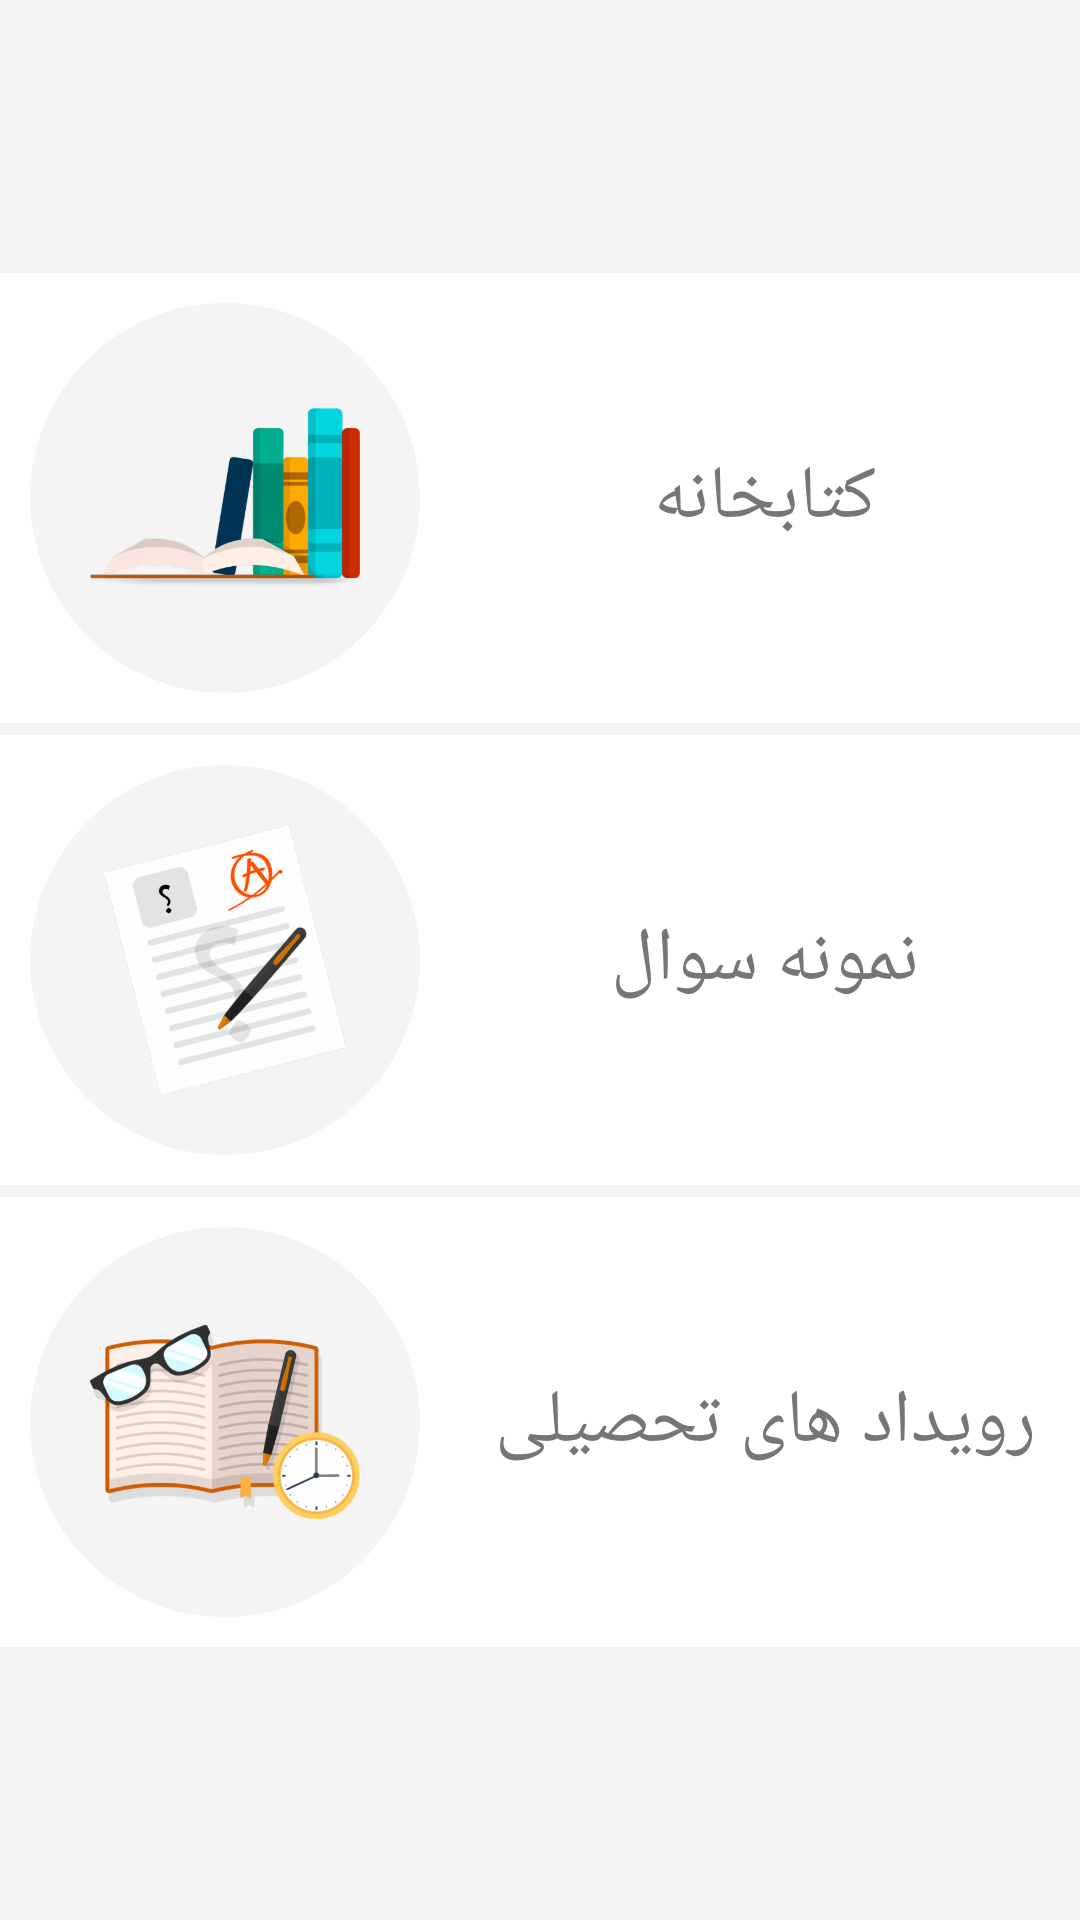

Screen size 1080 × 1920. Icon name, then its box in pixels as bbox=[x1, y1, x2, y2]:
education events: bbox=[90, 1325, 360, 1519]
library: bbox=[90, 408, 360, 583]
